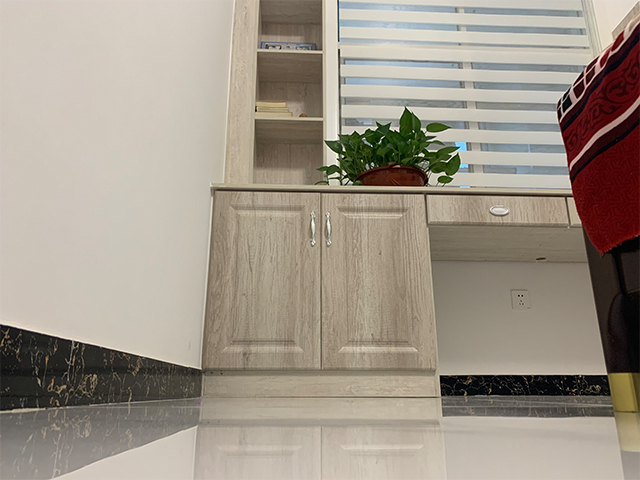cabinet: (203, 184, 579, 416)
